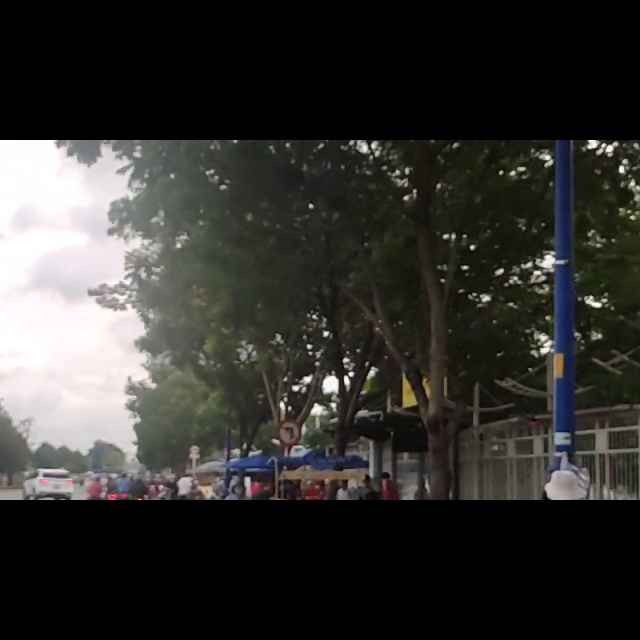Cấm rẽ trái: (276, 419, 301, 446)
